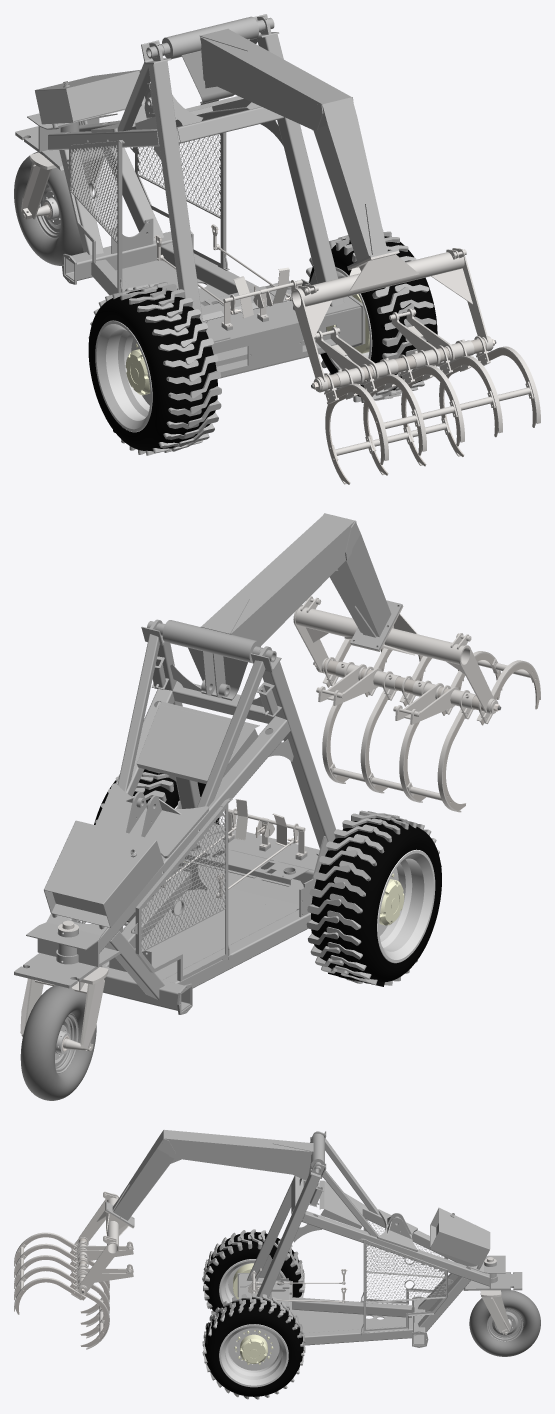
Rendered from cane-loader.glb.
3 views of the same model, one above another, from view 1: azimuth 30°, elevation 25°; view 2: azimuth 150°, elevation 25°; view 3: azimuth 270°, elevation 25° (orthographic). The views are drawn at different scales.
Parts seen in each view (by area): view 1: structure-1, Tyre-1 (×2), boom 1st part-1, Boom part (2)-2, 46.DOOR RH-1, 46.DOOR RH-2, Rim-1, Fuel Tank-1, Tire-1, Part1 grab frame-1, PIVOT SHAFT-1 (×2), Part1 st-1 (+13 smaller); view 2: structure-1, Tyre-1 (×2), Fuel Tank-1, boom 1st part-1, 46.DOOR RH-1, Part1 st-1, Part12-1, Tire-1, Rim-1, Part11-1, Boom part (2)-2, Part1 grab frame-1 (+7 smaller); view 3: structure-1, Tyre-1 (×2), boom 1st part-1, Rim-1 (×2), 46.DOOR RH-2, Tire-1, Fuel Tank-1, Boom part (2)-2, Part1 st-1, 46.DOOR RH-1, Part12-1, Part11-1 (+11 smaller).
Part boxes in pixels (x1,y1,x2,y2): structure-1: [15, 14, 365, 378]; Tyre-1 (×2): [88, 229, 437, 455]; boom 1st part-1: [200, 30, 351, 129]; Boom part (2)-2: [313, 97, 387, 261]; 46.DOOR RH-1: [67, 140, 124, 292]; 46.DOOR RH-2: [130, 132, 229, 270]; Rim-1: [95, 320, 152, 432]; Fuel Tank-1: [35, 69, 150, 125]; Tire-1: [14, 151, 83, 265]; Part1 grab frame-1: [292, 252, 464, 308]; PIVOT SHAFT-1 (×2): [315, 308, 454, 384]; Part1 st-1: [116, 260, 255, 360]; structure-1: [14, 619, 335, 1014]; Tyre-1 (×2): [94, 769, 441, 986]; Fuel Tank-1: [44, 820, 163, 927]; boom 1st part-1: [202, 513, 354, 645]; 46.DOOR RH-1: [131, 798, 232, 981]; Part1 st-1: [134, 889, 294, 979]; Part12-1: [137, 701, 259, 783]; Tire-1: [20, 985, 96, 1100]; Rim-1: [377, 849, 435, 963]; Part11-1: [95, 783, 208, 858]; Boom part (2)-2: [329, 524, 391, 636]; Part1 grab frame-1: [295, 606, 470, 665]; structure-1: [237, 1131, 522, 1347]; Tyre-1 (×2): [202, 1229, 305, 1399]; boom 1st part-1: [163, 1129, 312, 1176]; Rim-1 (×2): [219, 1259, 288, 1387]; 46.DOOR RH-2: [359, 1238, 453, 1335]; Tire-1: [469, 1290, 540, 1356]; Fuel Tank-1: [430, 1207, 490, 1266]; Boom part (2)-2: [113, 1130, 174, 1220]; Part1 st-1: [293, 1309, 416, 1335]; 46.DOOR RH-1: [360, 1219, 448, 1304]; Part12-1: [319, 1180, 362, 1228]; Part11-1: [377, 1209, 417, 1251].
Size of the model in its own units: 2.41 by 3.07 by 6.45.
